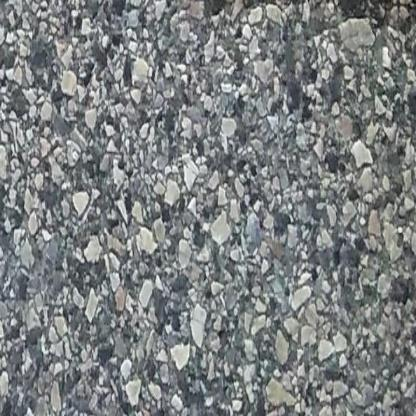Cracks: (174, 0, 416, 22)
